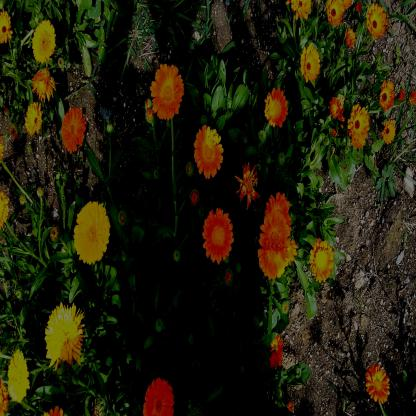marigold: (46, 304, 84, 362), (74, 202, 109, 262), (152, 64, 183, 121), (202, 210, 233, 258), (256, 238, 288, 282), (195, 126, 223, 176), (142, 377, 174, 415), (62, 108, 86, 150), (6, 352, 30, 391), (366, 362, 388, 404), (311, 242, 334, 282), (349, 104, 370, 147), (32, 23, 55, 62), (261, 212, 288, 244), (265, 91, 288, 125), (300, 43, 320, 81), (367, 3, 388, 37), (32, 70, 56, 98), (266, 193, 291, 214), (26, 103, 43, 131), (380, 78, 394, 112), (328, 0, 345, 27), (0, 12, 13, 43), (291, 0, 311, 19), (382, 120, 396, 144)
